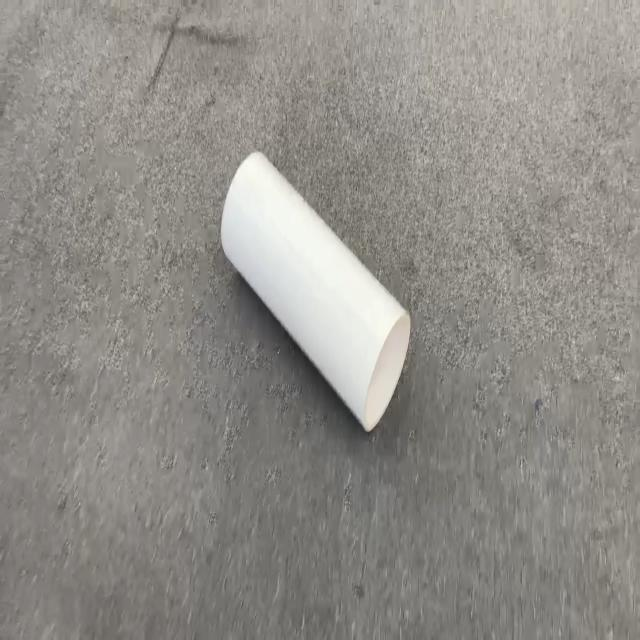coral: (219, 148, 411, 433)
